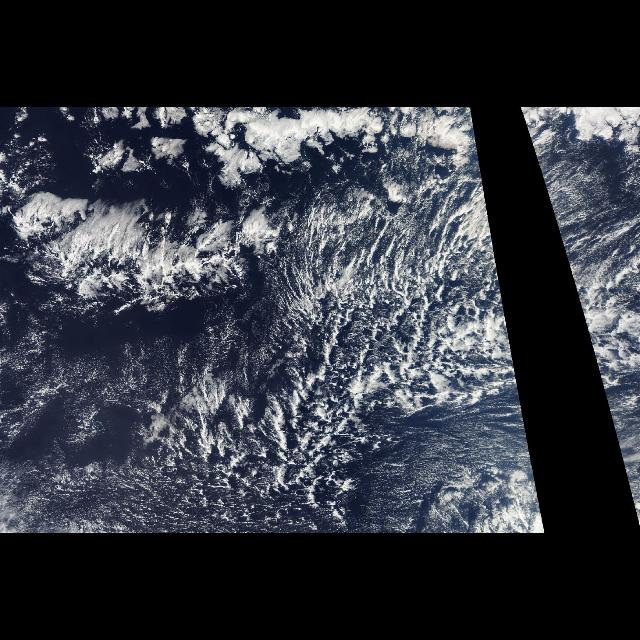Fish: (12, 180, 524, 526)
Gravel: (63, 302, 529, 534)
